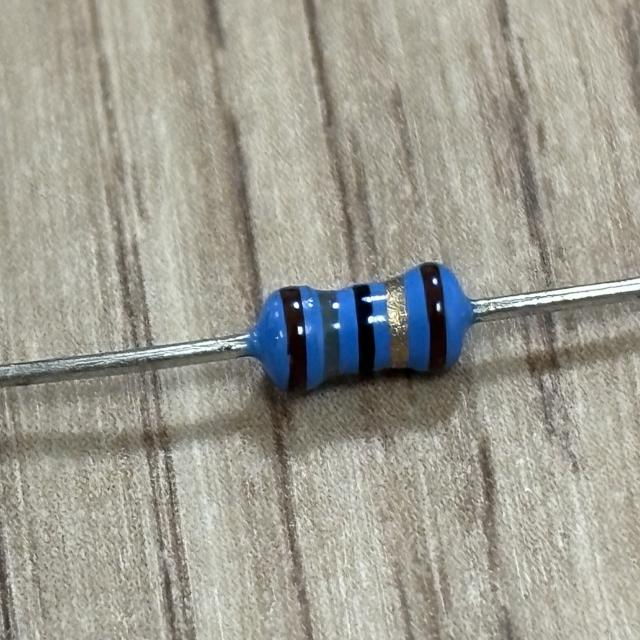resistor: (261, 258, 467, 404)
